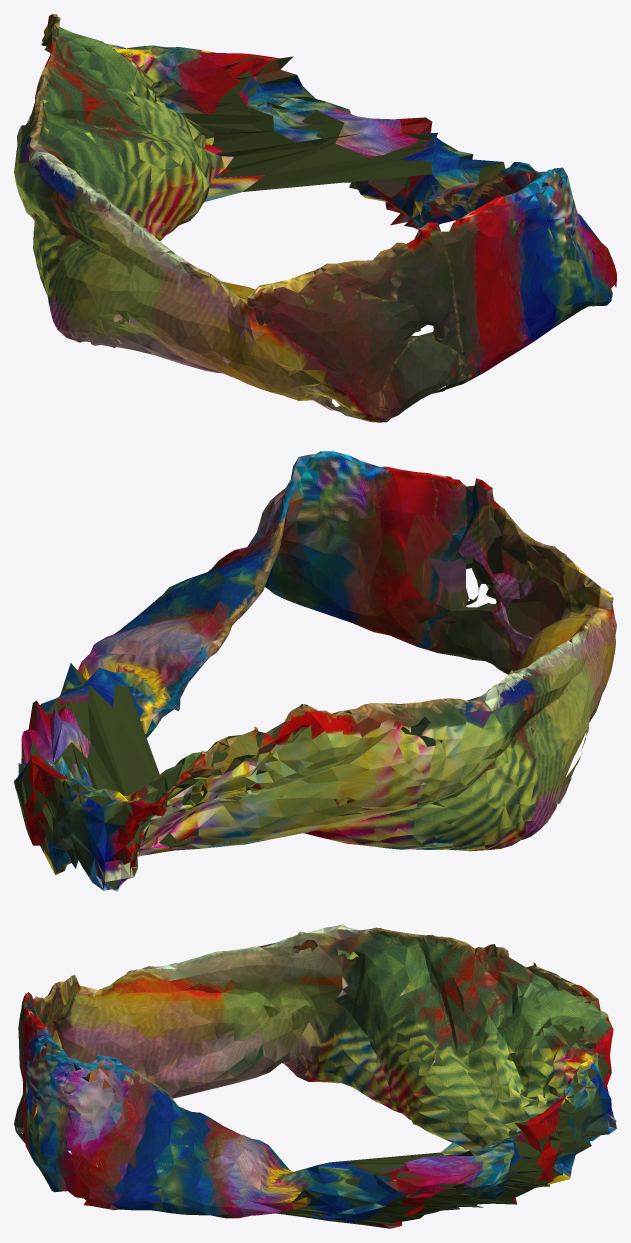
The model's file is colorscanfused1-ColorScanFused1.obj.
The picture shows the model from 3 angles, top to bottom: view 1: azimuth 30°, elevation 25°; view 2: azimuth 150°, elevation 25°; view 3: azimuth 270°, elevation 25°; orthographic projection. The views are drawn at different scales.
Parts seen in each view (by area): view 1: ColorScanFused1; view 2: ColorScanFused1; view 3: ColorScanFused1.
Part boxes in pixels (<box>): ColorScanFused1: <box>14,14,616,422</box>; ColorScanFused1: <box>14,451,616,891</box>; ColorScanFused1: <box>14,924,616,1228</box>.
Size of the model in its own units: 8.29 by 3.38 by 10.81.
